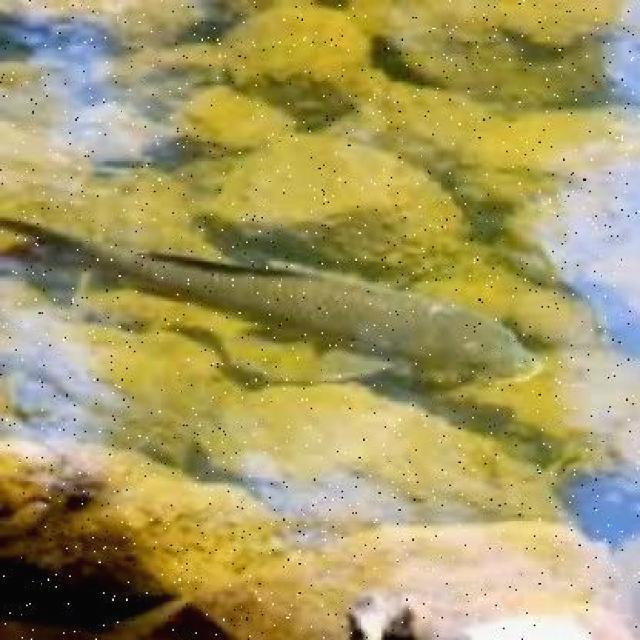ikan-mas: (30, 244, 539, 387)
